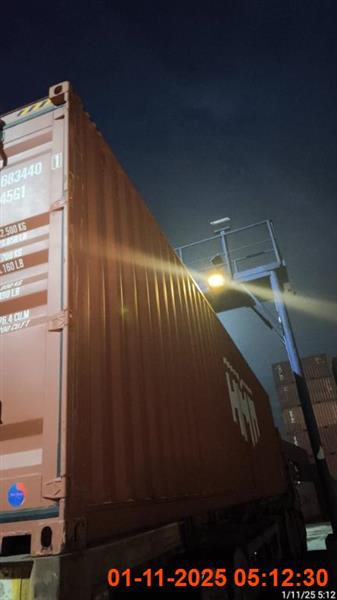broken: (0, 80, 307, 596)
